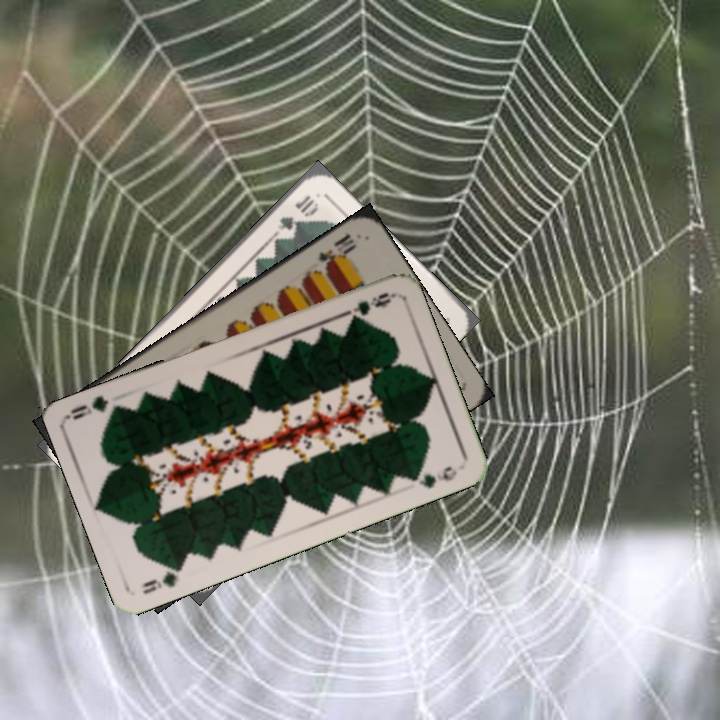E10: (314, 229, 360, 272)
G10: (273, 191, 321, 233)
G9: (339, 288, 396, 324), (138, 558, 188, 597)
